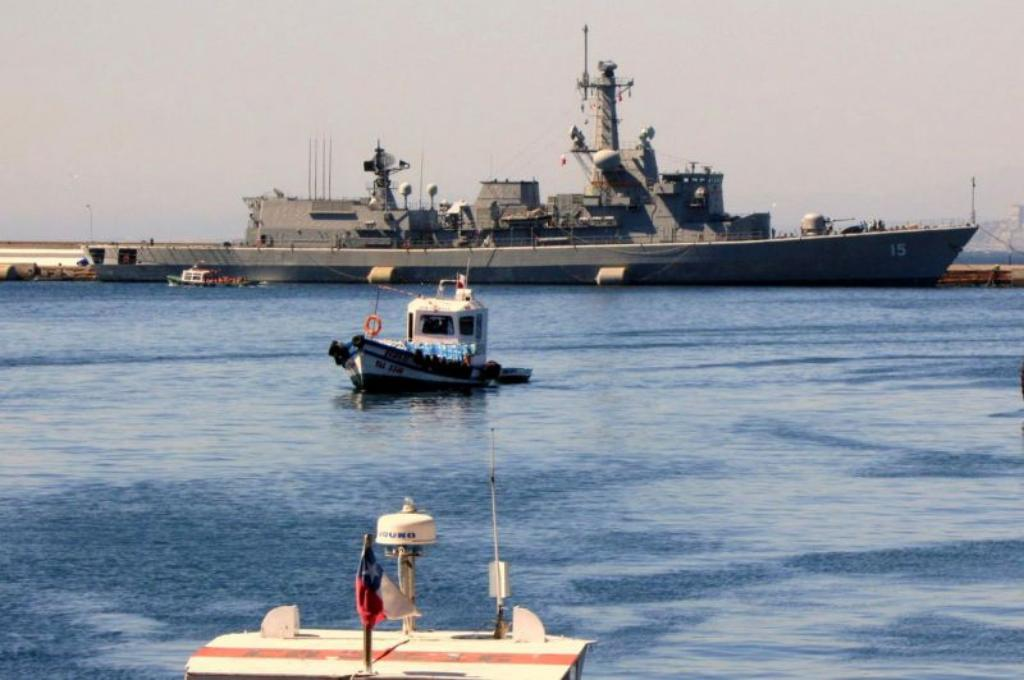Warship: (76, 21, 980, 287)
